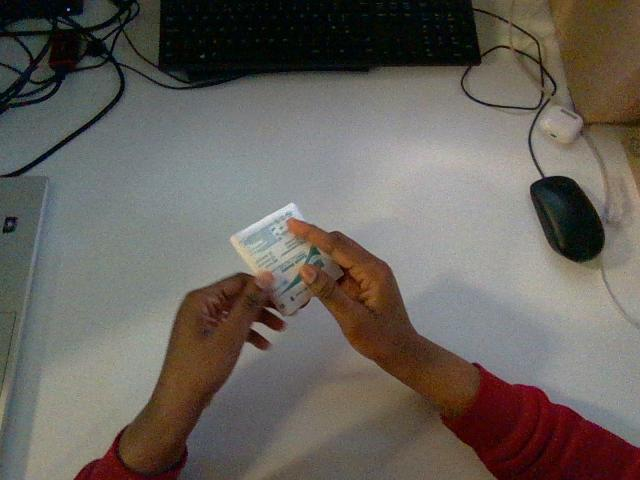gauze: (230, 203, 342, 314)
